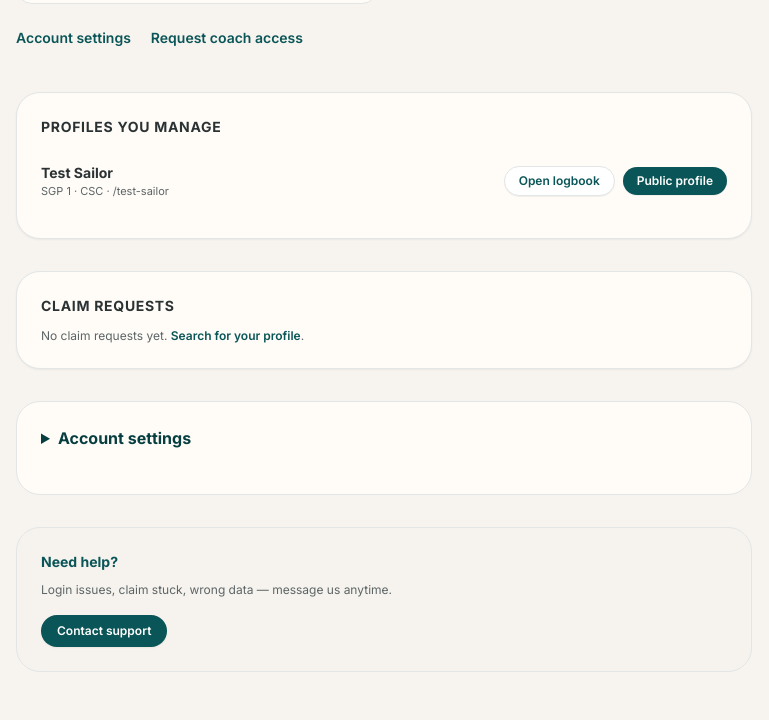
Test: account workspace navigation › puts sailing and managed profiles before expandable account settings
(page scrolled)
Step 1. Click the heading "Account settings" → (124, 438), box [58,428,191,448]
(page scrolled)
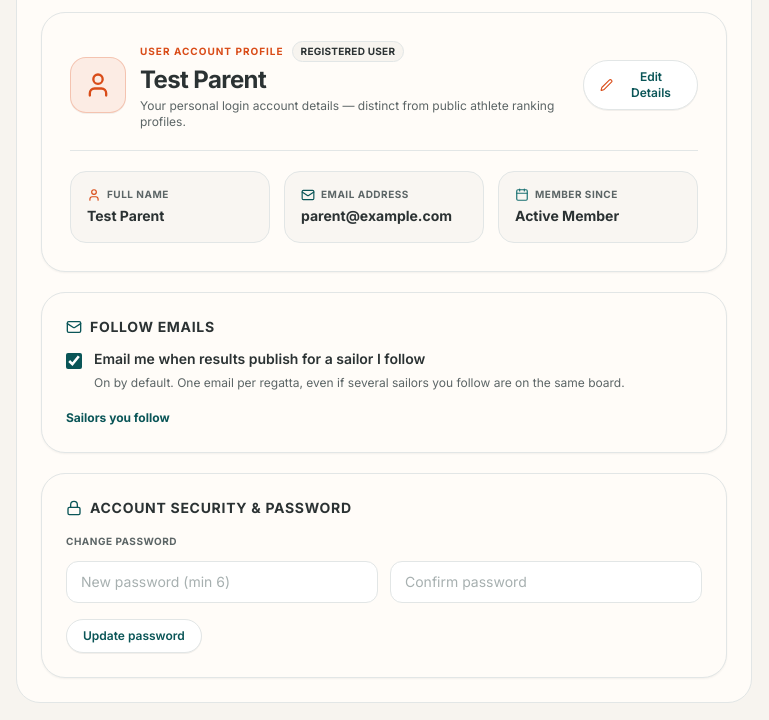
Expected: the button "Update password" is shown, [66,619,202,653]
Expected: the checkbox is checked, [66,352,82,368]
